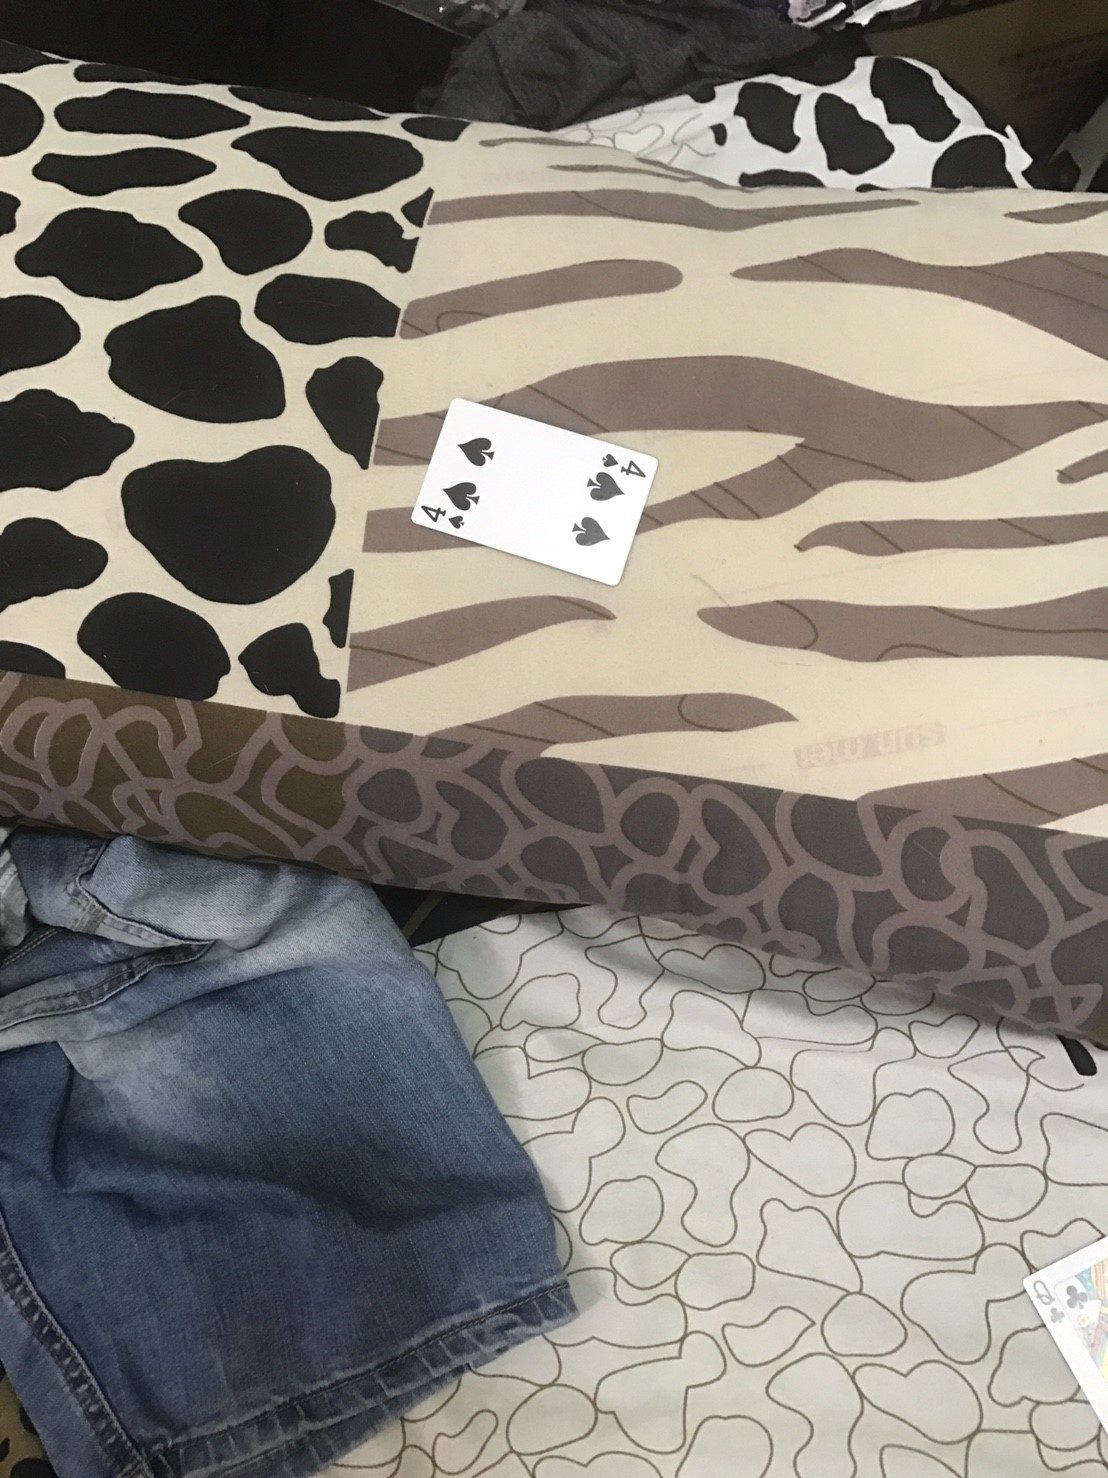clubs: (1063, 1282, 1092, 1313), (1051, 1306, 1068, 1333)
spades: (440, 479, 485, 511), (570, 514, 612, 547), (585, 472, 627, 503), (456, 436, 496, 466), (601, 450, 619, 470), (448, 514, 467, 530)
